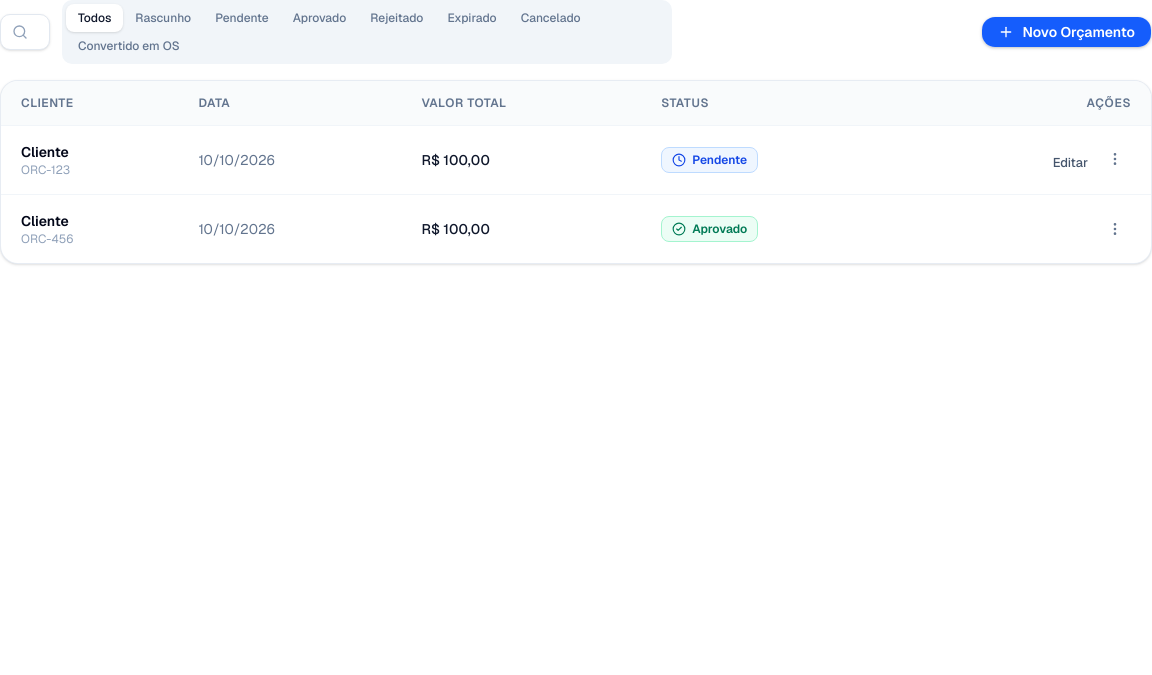
Scenario: AC-206 pending quotation editing › offers edit only for pending quotations and loads their full details
Click the button with aria-label "Editar orçamento ORC-123". click: (1070, 163)
box: x1=1042 y1=149 x2=1099 y2=177
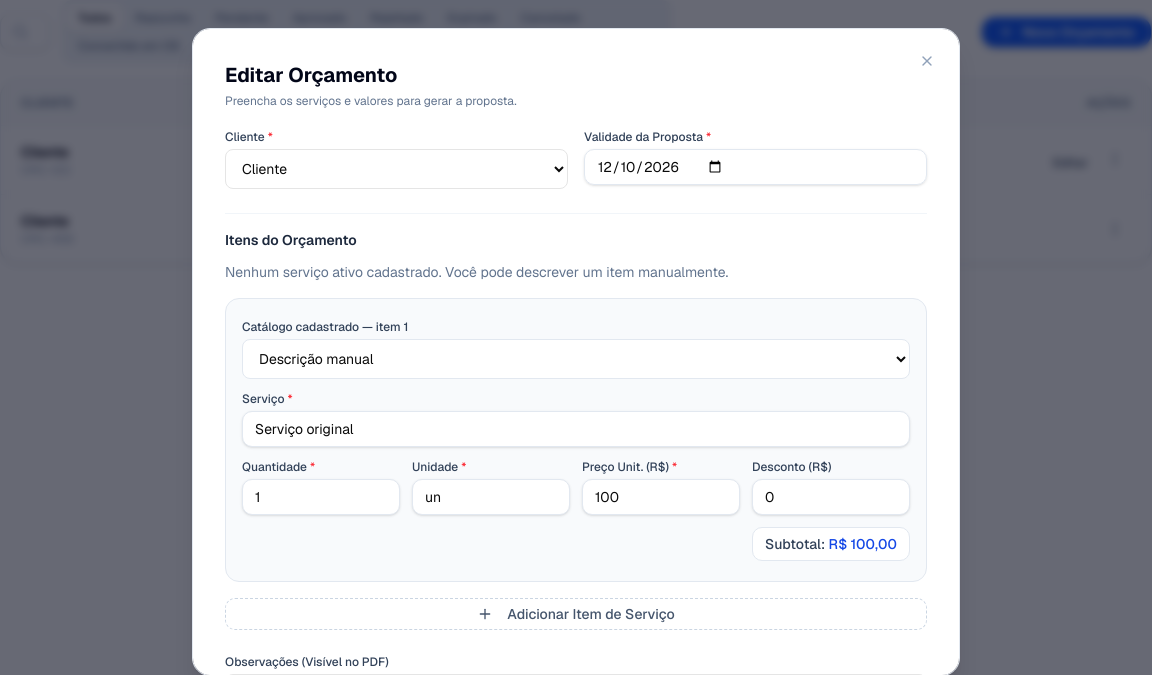
Check: the heading "Editar Orçamento" is shown, box x1=225 y1=62 x2=397 y2=88
Check: the field showing "Serviço original" is shown, box x1=242 y1=411 x2=910 y2=447
